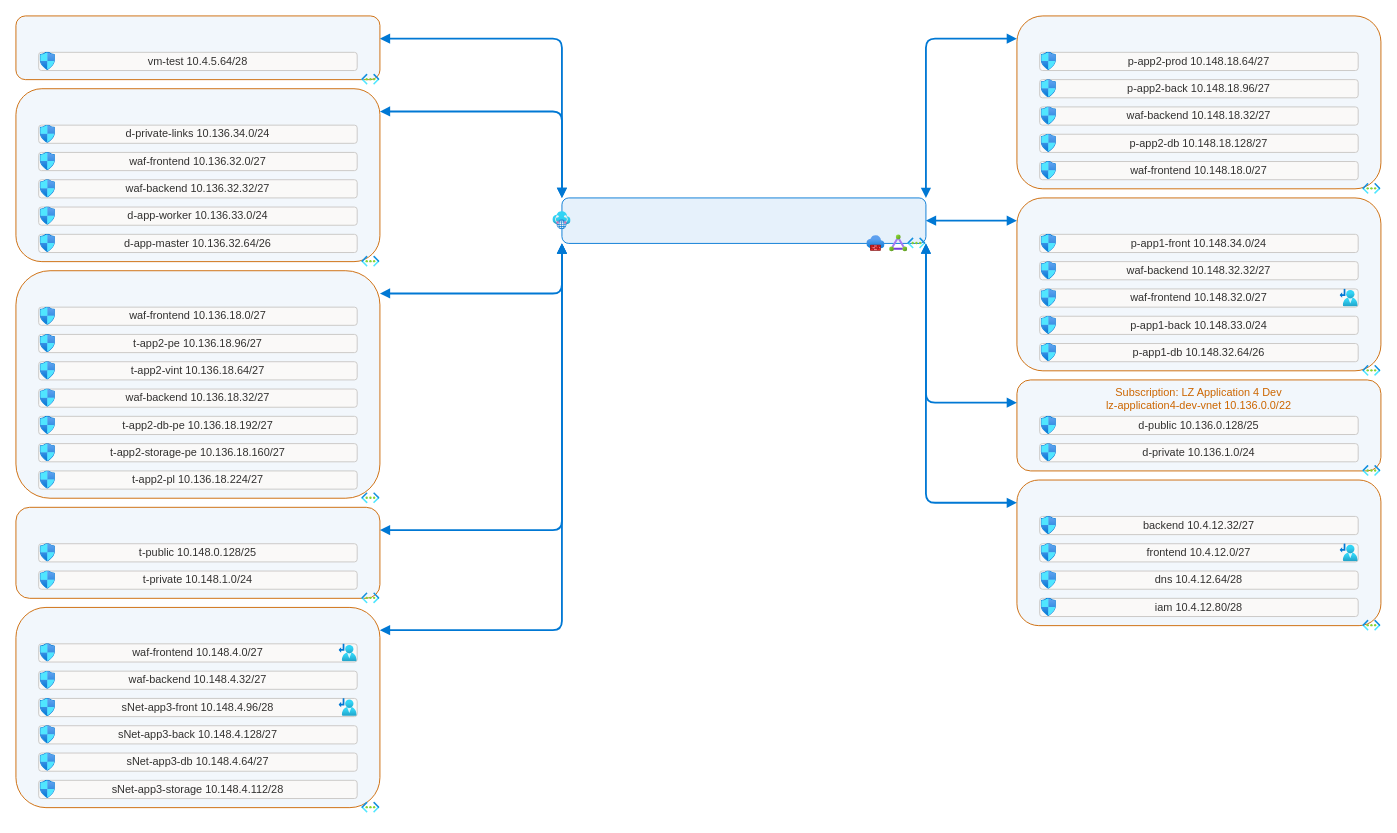
The diagram is 1397 pixels wide and 833 high, and some of its shapes have lost their labels. The box of each missing label's shape, as (x1, y1, x2, y2) in pixels:
Subscription: Connectivity LZ p-virtualwan-vhub 10.4.0.0/22: (561, 197, 926, 243)
Subscription: LZ Application 1 Prod lz-application1-prod-vnet 10.148.32.0/22: (1016, 197, 1381, 371)
Subscription: LZ Application 1 Test lz-application1-test-vnet 10.136.32.0/22: (15, 88, 380, 262)
Subscription: LZ Application 2 Prod lz-application2-prod-vnet 10.148.18.0/23: (1016, 15, 1381, 189)
Subscription: LZ Application 2 Test lz-application2-vnet 10.136.18.0/23: (15, 270, 380, 498)
Subscription: LZ Application 3 Prod lz-application3-prod-vnet 10.148.4.0/24: (15, 607, 380, 808)
Subscription: LZ Application Dev Testing-vnet 10.4.5.0/24: (15, 15, 380, 80)
Subscription: LZ Management lz-management-vnet 10.4.12.0/24: (1016, 479, 1381, 626)
Subscription: LZ Testing lz-testing-vnet 10.148.0.0/22: (15, 506, 380, 598)
